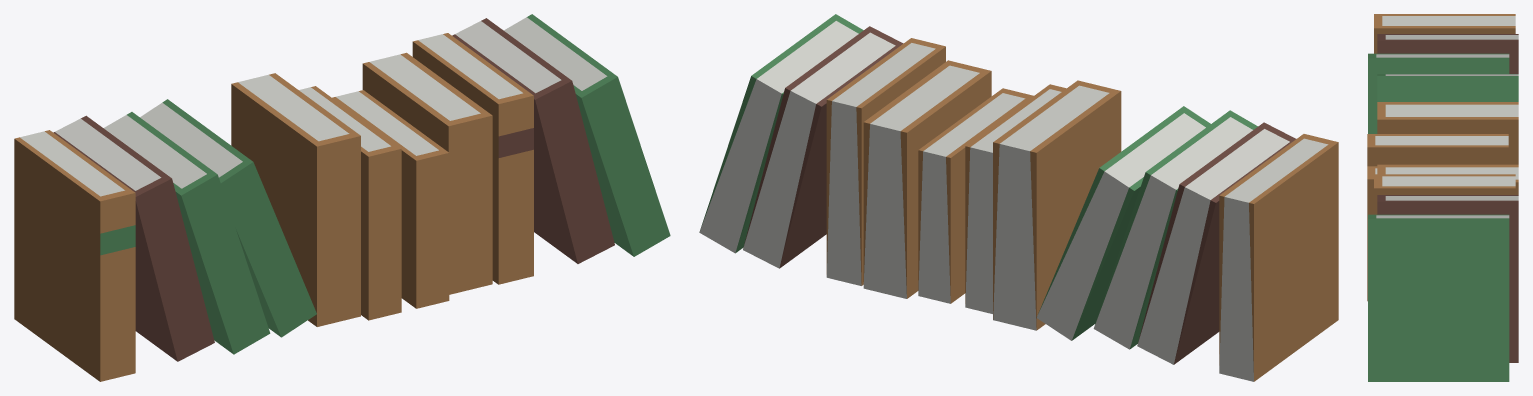
The model's file is Book_03.FBX.
The picture shows the model from 3 angles, left to right: view 1: azimuth 30°, elevation 25°; view 2: azimuth 150°, elevation 25°; view 3: azimuth 270°, elevation 25°; orthographic projection. The views are drawn at different scales.
Parts seen in each view (by area): view 1: Book_03; view 2: Book_03; view 3: Book_03.
Part boxes in pixels (box(x1,y1,x2,y2)): Book_03: box(14, 14, 670, 381); Book_03: box(699, 14, 1338, 381); Book_03: box(1367, 14, 1518, 381).
Size of the model in its own units: 96.81 by 30.34 by 27.2.
